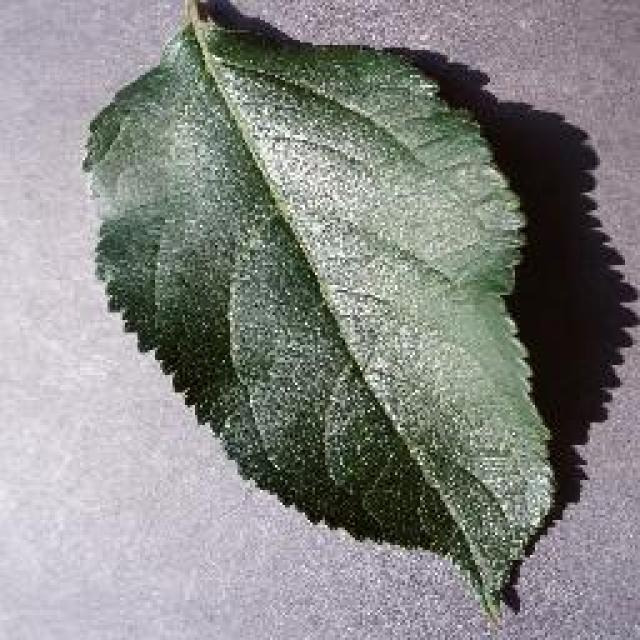apple scab disease: (80, 0, 565, 622)
